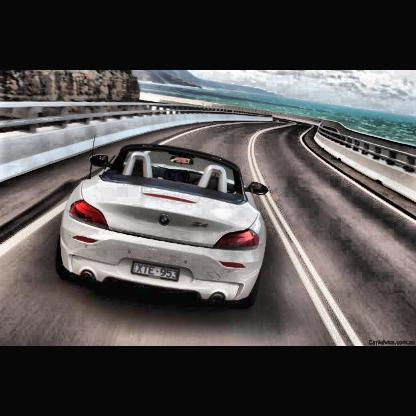BMW Z4 Convertible 2012: (55, 136, 268, 316)
